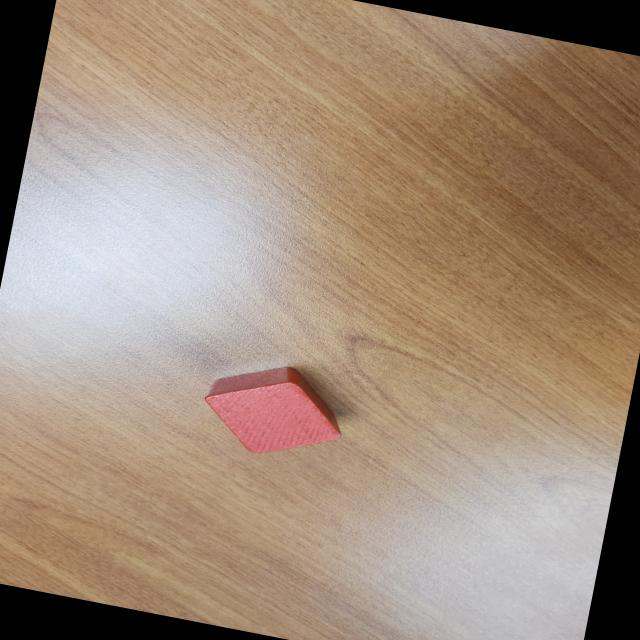red: (195, 350, 351, 470)
